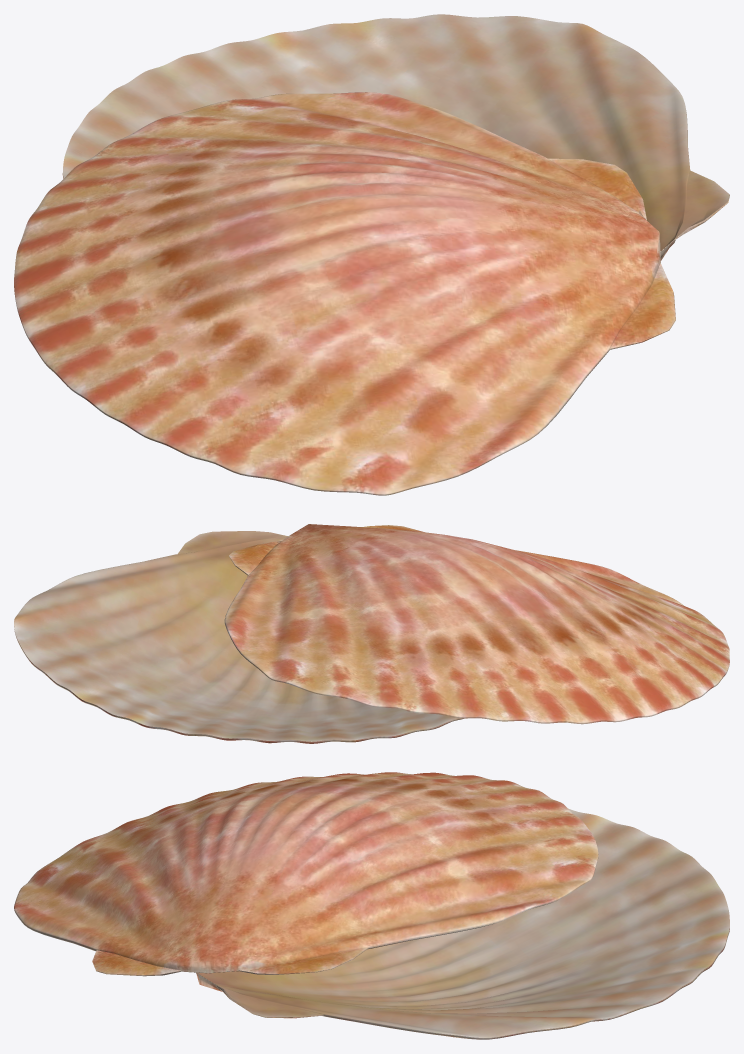
Rendered from almeja.obj.
The picture shows the model from 3 angles, top to bottom: view 1: azimuth 30°, elevation 25°; view 2: azimuth 150°, elevation 25°; view 3: azimuth 270°, elevation 25°; orthographic projection. The views are drawn at different scales.
Visible parts, largest first — view 1: seashell_obj_Mesh polySurface2, polySurface1 seashell_obj_Mesh; view 2: seashell_obj_Mesh polySurface2, polySurface1 seashell_obj_Mesh; view 3: seashell_obj_Mesh polySurface2, polySurface1 seashell_obj_Mesh.
Part boxes in pixels (box(x1,y1,x2,y2)): seashell_obj_Mesh polySurface2: box(14, 92, 675, 495); polySurface1 seashell_obj_Mesh: box(62, 14, 729, 261); seashell_obj_Mesh polySurface2: box(224, 524, 729, 724); polySurface1 seashell_obj_Mesh: box(14, 531, 463, 743); seashell_obj_Mesh polySurface2: box(14, 772, 598, 976); polySurface1 seashell_obj_Mesh: box(196, 808, 729, 1039).
Size of the model in its own units: 103 by 20.88 by 105.
Materials: 2 (2 with a texture image).
